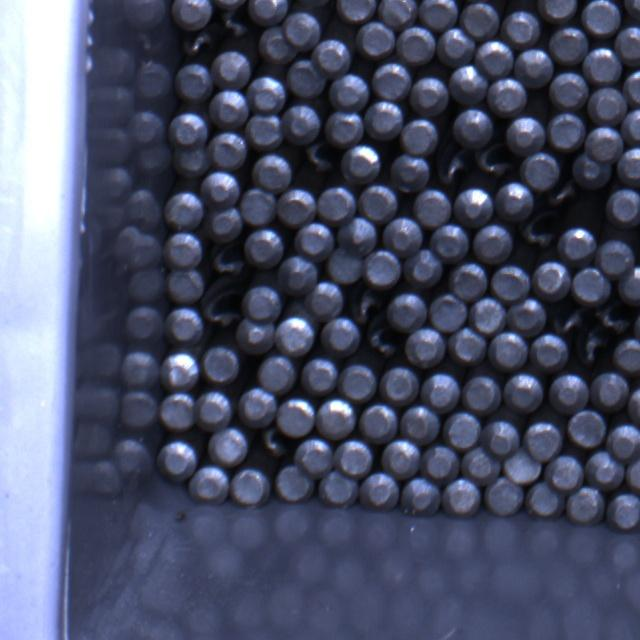tool: (317, 396, 358, 438), (503, 371, 544, 413), (585, 449, 626, 490), (387, 292, 428, 332), (422, 370, 462, 411), (274, 314, 315, 354), (188, 464, 229, 504), (496, 181, 536, 222), (448, 260, 488, 300), (474, 221, 514, 261), (405, 328, 445, 368), (317, 184, 357, 224), (363, 249, 403, 289), (548, 372, 588, 412), (358, 472, 398, 512), (379, 364, 419, 404), (244, 228, 284, 268), (157, 438, 197, 478), (453, 108, 493, 148), (295, 436, 334, 477), (453, 185, 492, 226), (341, 142, 382, 181), (336, 215, 377, 254), (400, 477, 441, 516), (402, 404, 441, 444), (276, 396, 315, 436), (277, 187, 317, 226), (429, 292, 468, 332), (524, 421, 563, 461), (383, 438, 422, 478), (567, 407, 607, 446), (358, 403, 397, 443), (257, 353, 297, 392), (492, 262, 531, 302), (208, 427, 248, 466), (463, 373, 502, 413), (357, 20, 396, 60), (566, 485, 605, 525), (237, 388, 276, 428), (280, 255, 320, 294), (462, 444, 502, 483), (312, 36, 352, 75), (402, 249, 442, 288), (330, 73, 370, 112), (163, 348, 203, 387), (286, 57, 325, 97), (282, 104, 320, 145), (273, 464, 314, 502), (442, 409, 481, 448), (488, 331, 527, 370), (507, 114, 546, 153), (529, 332, 568, 371), (383, 215, 422, 254), (438, 26, 477, 65), (452, 63, 491, 102), (533, 260, 571, 300), (398, 26, 438, 64), (484, 477, 524, 515), (488, 78, 528, 116), (413, 187, 451, 227), (548, 112, 586, 152), (365, 98, 403, 138), (508, 298, 548, 336), (524, 481, 564, 519), (254, 154, 294, 192), (195, 390, 233, 430), (591, 370, 629, 410), (520, 151, 560, 189), (411, 74, 449, 114), (176, 61, 214, 101), (391, 152, 431, 190), (235, 316, 275, 354), (318, 471, 359, 508), (339, 363, 378, 401), (231, 466, 270, 504), (460, 0, 499, 38), (335, 438, 374, 476), (422, 443, 460, 482), (358, 184, 397, 222), (372, 62, 411, 100), (596, 238, 635, 276), (550, 26, 589, 64), (210, 86, 248, 125), (514, 47, 553, 85), (574, 267, 612, 305), (301, 355, 339, 393), (470, 296, 508, 334), (202, 344, 240, 382), (296, 222, 334, 260), (442, 478, 480, 516), (550, 70, 588, 108), (323, 316, 361, 354), (448, 328, 486, 366), (305, 280, 343, 318), (212, 51, 250, 89), (431, 224, 469, 262), (166, 306, 204, 344), (248, 75, 286, 113), (546, 454, 585, 491), (159, 392, 196, 431), (167, 191, 206, 228), (503, 446, 543, 482), (242, 285, 282, 321), (558, 226, 596, 263), (476, 37, 514, 74), (402, 118, 440, 155), (284, 12, 322, 49), (167, 229, 206, 265), (209, 131, 246, 168), (590, 87, 628, 123), (504, 8, 542, 44), (482, 420, 520, 456), (326, 110, 364, 146), (170, 109, 208, 145), (258, 27, 296, 63), (241, 186, 277, 223), (249, 113, 285, 150), (586, 126, 624, 161), (582, 0, 621, 34), (203, 172, 242, 206), (607, 188, 640, 228), (328, 248, 364, 284), (582, 48, 619, 83), (165, 268, 203, 302), (607, 423, 640, 461), (206, 206, 242, 240), (607, 491, 640, 528), (419, 0, 459, 30), (573, 154, 608, 188), (170, 0, 212, 28), (378, 0, 418, 28), (174, 145, 210, 176), (248, 0, 290, 24), (614, 336, 640, 373), (617, 22, 640, 63), (336, 0, 377, 22), (618, 264, 640, 304), (618, 146, 640, 185), (538, 0, 577, 20), (624, 69, 640, 107), (625, 454, 640, 493), (624, 108, 640, 144)
tool_b: (200, 276, 242, 331), (518, 210, 558, 252), (572, 328, 612, 368), (363, 321, 400, 360), (475, 142, 513, 179), (206, 243, 244, 279), (436, 148, 471, 186), (346, 289, 383, 324), (214, 6, 250, 41), (300, 142, 337, 176), (595, 302, 632, 334), (257, 425, 291, 459), (545, 178, 577, 209), (182, 26, 215, 54)
